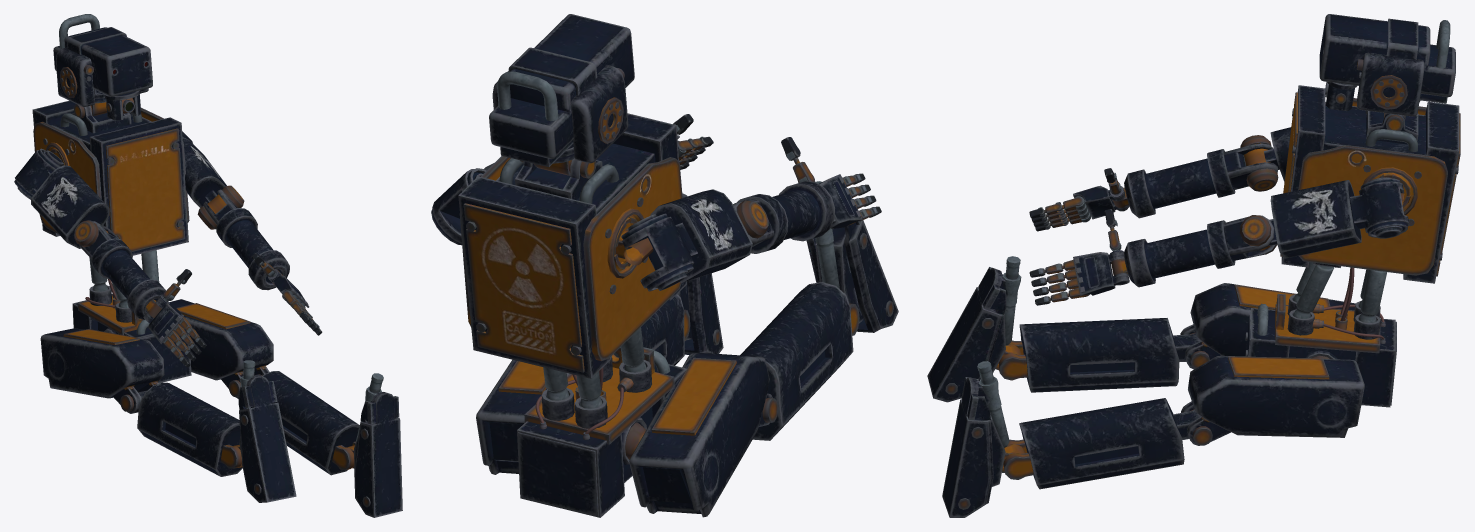
The model's file is driver-car.glb.
3 views of the same model, side by side, from view 1: azimuth 30°, elevation 25°; view 2: azimuth 150°, elevation 25°; view 3: azimuth 270°, elevation 25° (orthographic). The views are drawn at different scales.
Visible parts, largest first — view 1: pilote; view 2: pilote; view 3: pilote.
Boxes of the visible parts, x1,y1,x2,y2 form: pilote: (14,14,402,517); pilote: (431,14,898,517); pilote: (927,14,1460,517).
Size of the model in its own units: 0.6943 by 1.19 by 1.34.
Materials: 1 (1 with a texture image).
